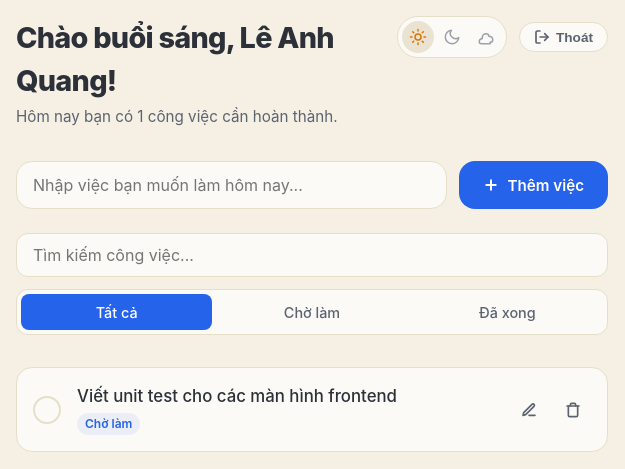
Test case: Kiểm thử Giao diện & Tính năng Todo List › Cho phép chỉnh sửa tiêu đề công việc trực tiếp trên dòng (inline edit)
The image size is (625, 469).
Expected: the heading "Chào buổi sáng, Lê Anh Quang!" is shown, [16,20,334,98]
# Nhấp vào nút sửa để bật input
Click the button named "Chỉnh sửa Viết unit test cho các màn hình frontend" at x=529, y=410, box [511,392,547,428]
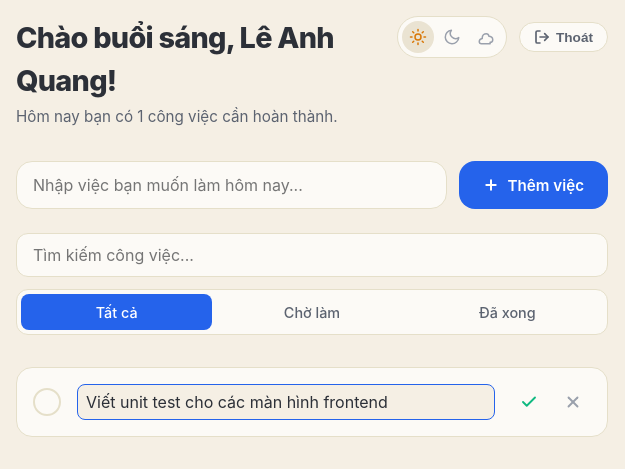
Replace the text in the field named "Chỉnh sửa tiêu đề cho Viết unit test cho các màn hình frontend" with "Viết unit test màn hình đăng nhập" at x=286, y=402, box [77,384,495,420]
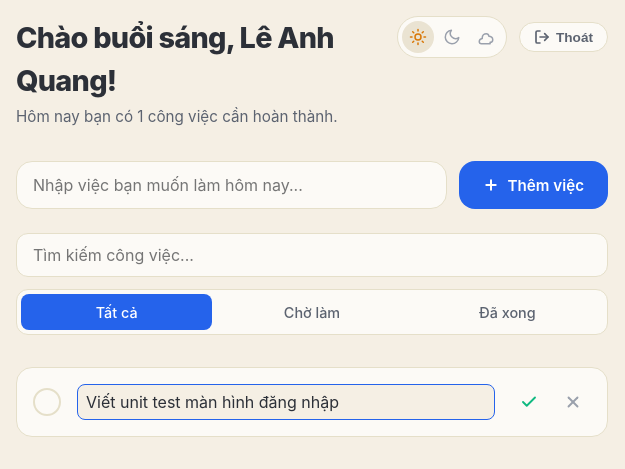
# Bấm Enter để lưu
Press Enter in the field named "Chỉnh sửa tiêu đề cho Viết unit test cho các màn hình frontend", box [77,384,495,420]
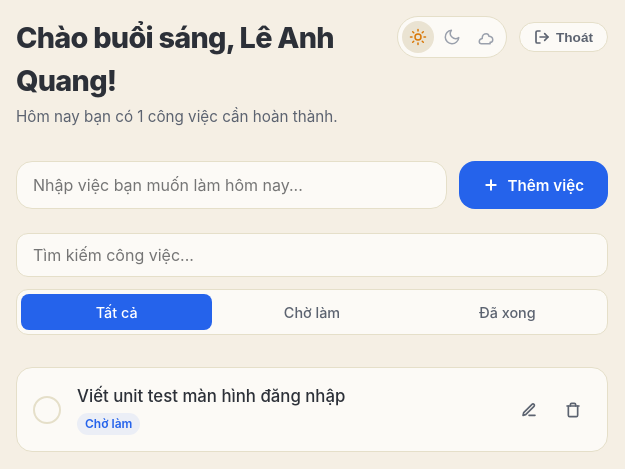
Expected: the text "Viết unit test cho các màn hình frontend" is not shown
Expected: the text "Viết unit test màn hình đăng nhập" is shown, [77,386,345,406]
